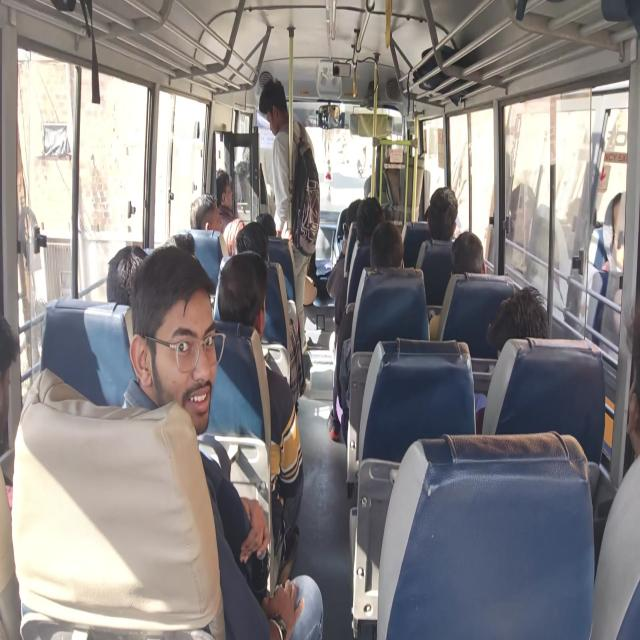person: (141, 254, 212, 425), (605, 307, 640, 577), (222, 249, 274, 354), (490, 290, 556, 370), (371, 230, 417, 286), (0, 333, 29, 413), (110, 250, 148, 307), (447, 241, 490, 291), (260, 79, 299, 134), (233, 228, 275, 272), (428, 183, 465, 232), (249, 206, 285, 249), (159, 219, 202, 255), (190, 197, 222, 244), (356, 185, 384, 234), (209, 170, 238, 198), (346, 201, 366, 227)
